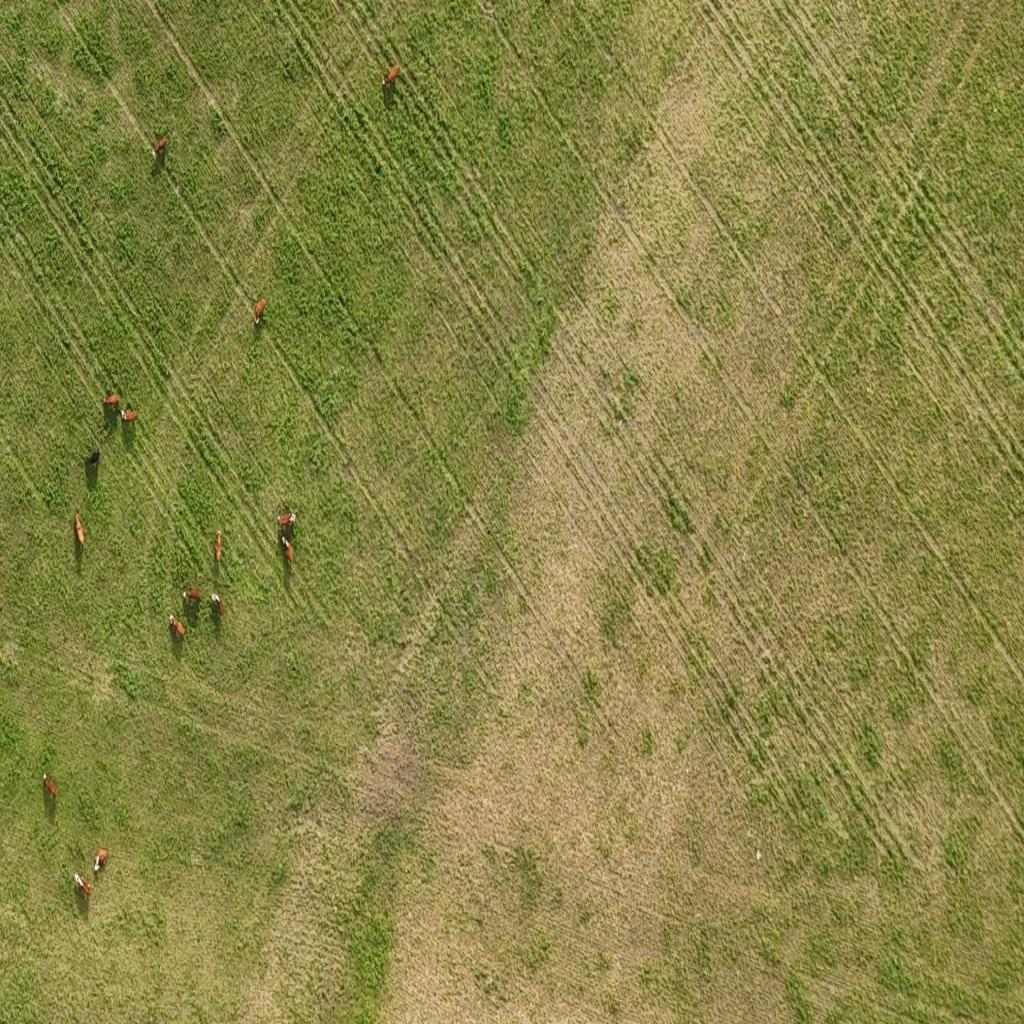cow: (379, 61, 399, 94), (73, 510, 86, 552), (253, 296, 267, 334), (152, 134, 168, 166), (74, 872, 92, 899), (170, 611, 186, 636), (93, 848, 108, 874), (281, 536, 294, 564), (278, 511, 296, 530), (43, 774, 57, 798), (183, 589, 202, 606), (84, 448, 100, 466), (104, 393, 120, 410), (212, 590, 223, 614), (121, 408, 137, 424), (215, 530, 222, 562)
